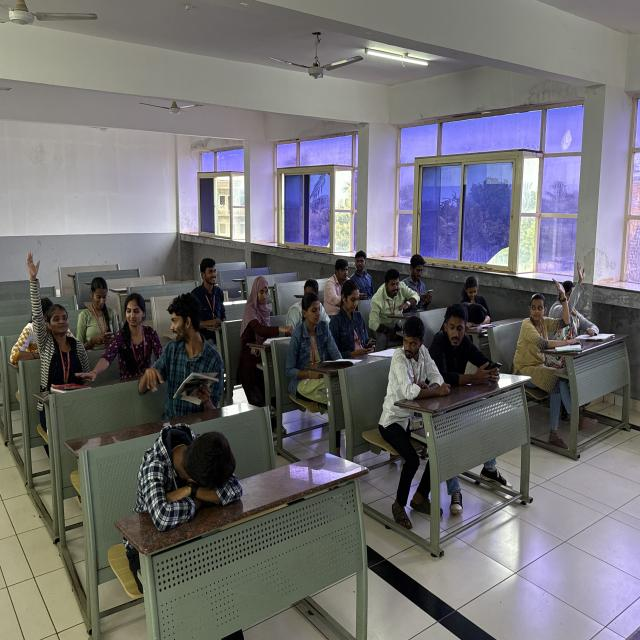Hand Rising: (25, 246, 86, 375), (521, 269, 572, 377), (560, 260, 592, 339)
Reading: (288, 289, 348, 370), (241, 275, 292, 343)
Sleeping: (129, 415, 249, 538)
Using Phone: (428, 300, 506, 385), (332, 278, 379, 358), (75, 274, 124, 349), (404, 252, 435, 312)
Writing: (185, 254, 232, 330)
